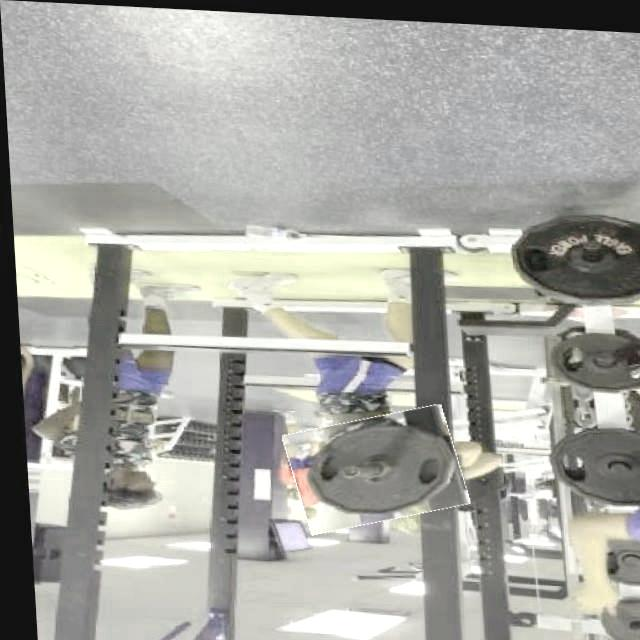barbell: (280, 402, 462, 530)
